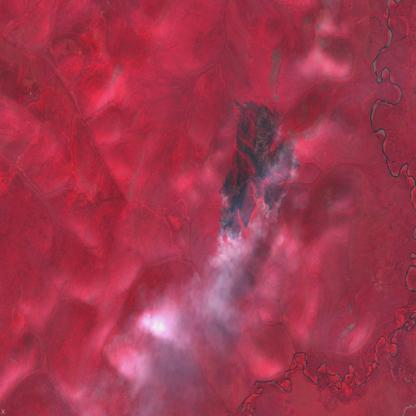fire: (214, 100, 301, 252)
